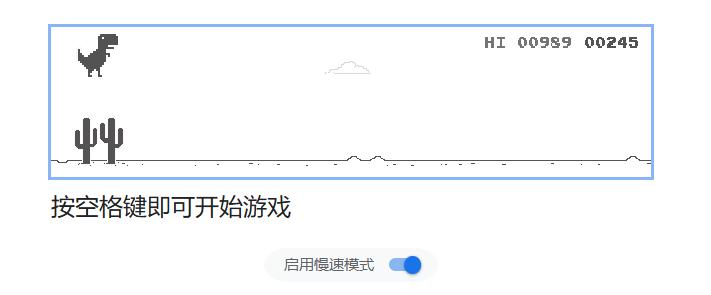cactus: (74, 117, 126, 167)
dino: (76, 32, 119, 78)
